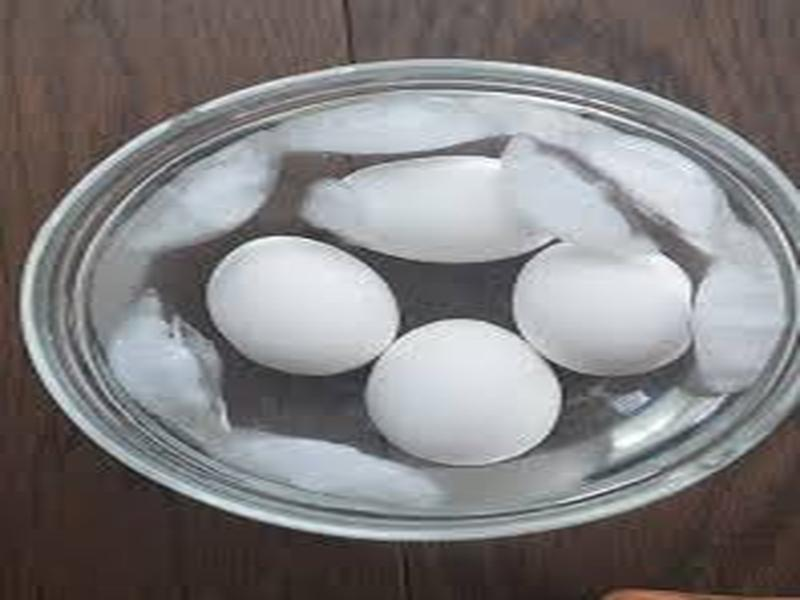egg: (366, 318, 564, 467)
